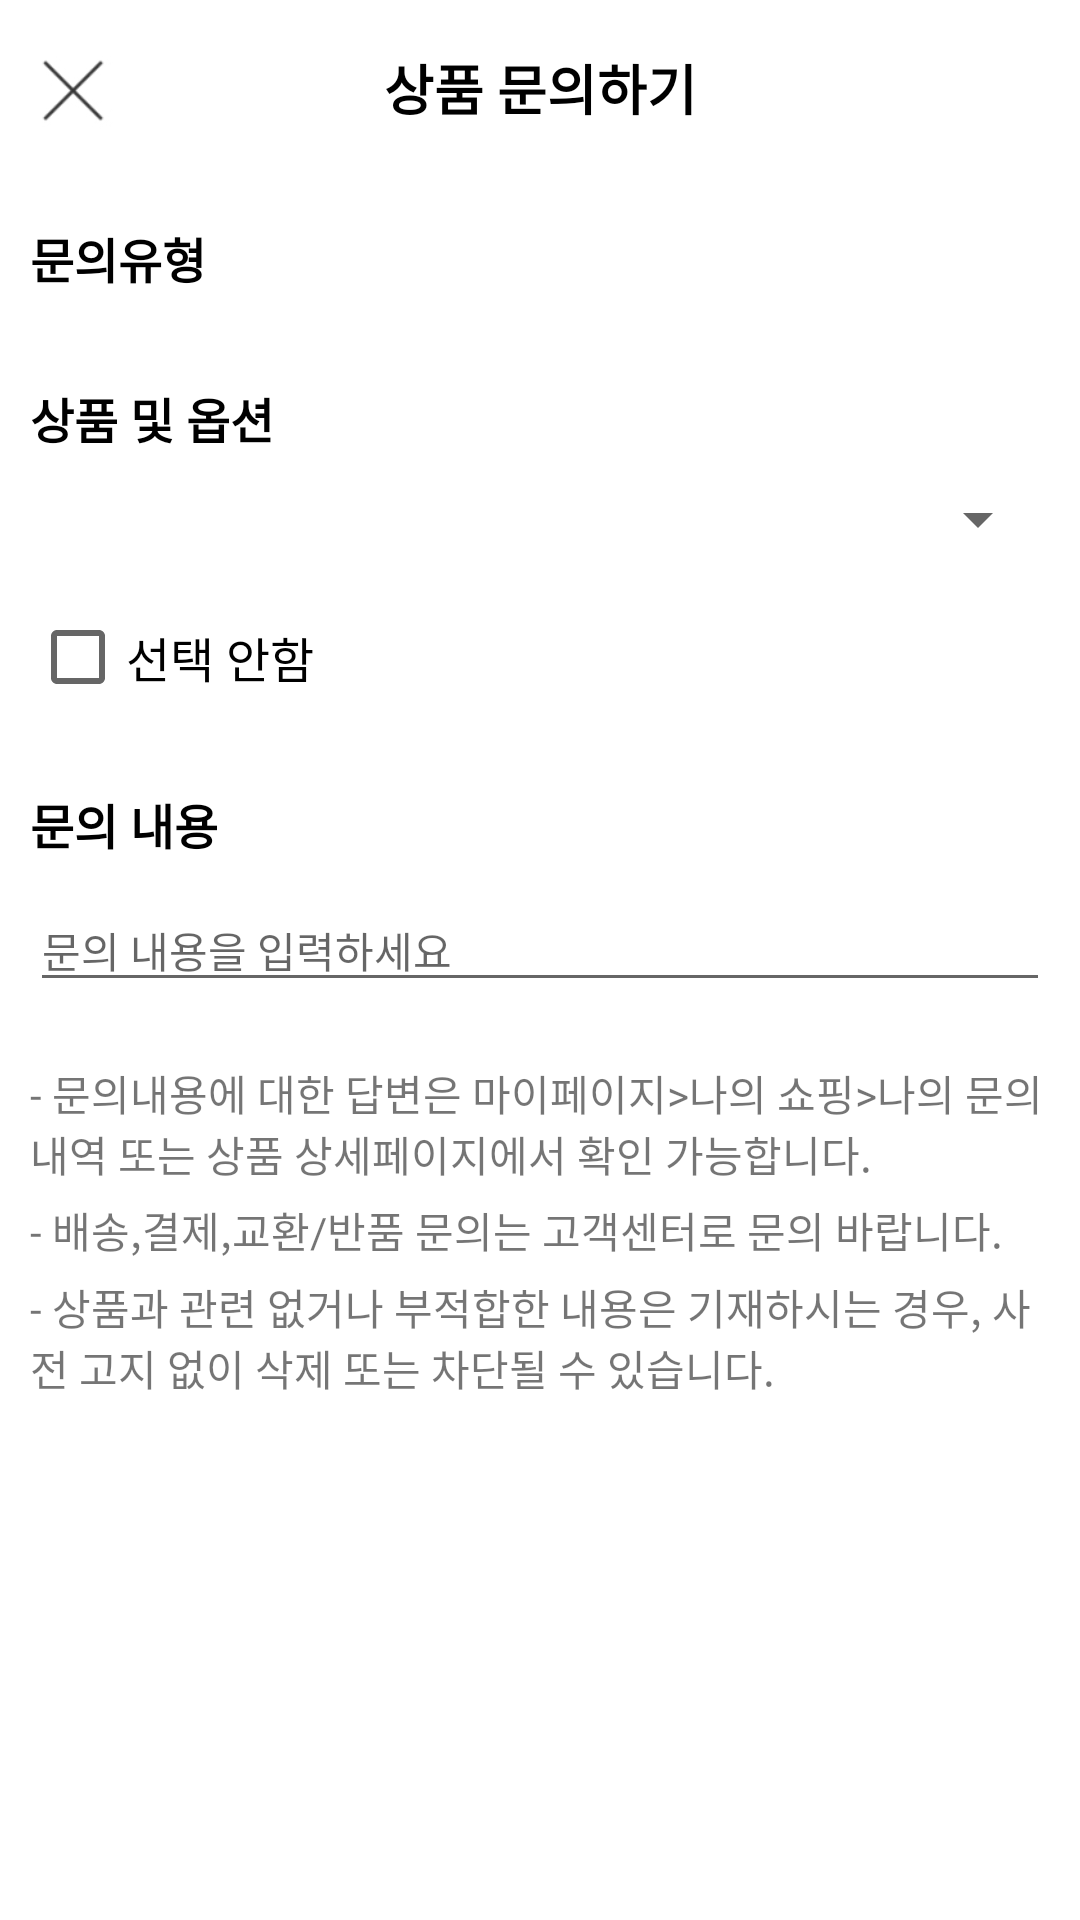

Icon bounding boxes for this 1080 × 1920 phone screenshot, format (x1,y1,x2,y2):
edit back: (43,60,103,121)
